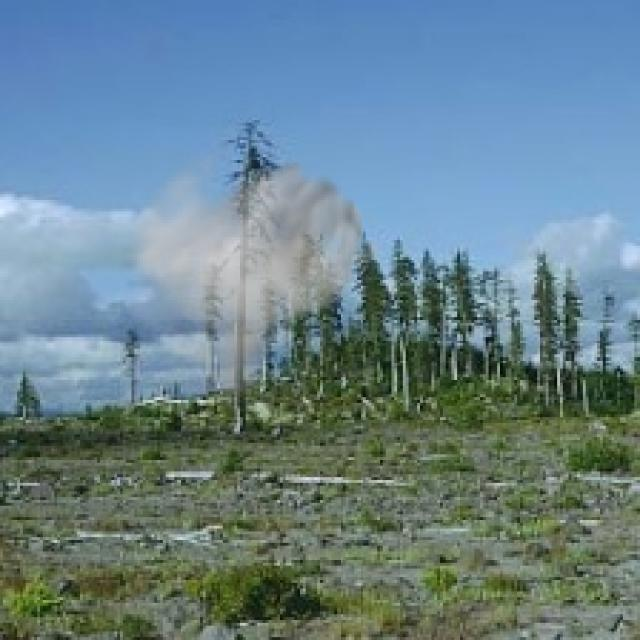smoke: (117, 137, 386, 414)
